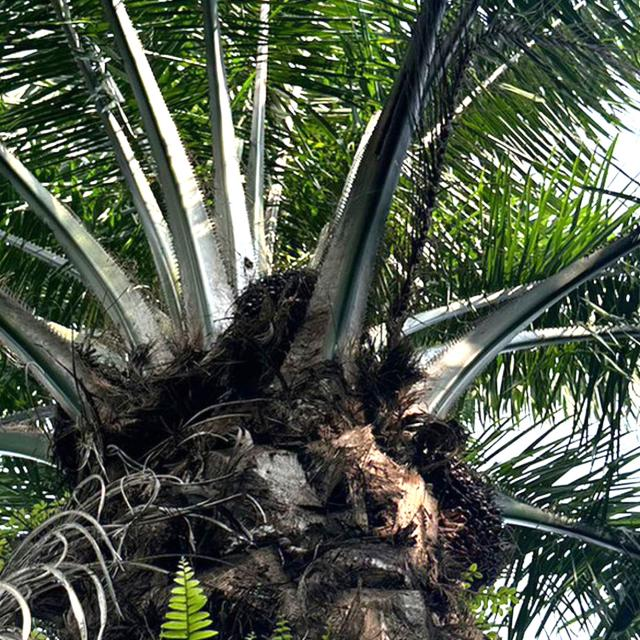unripe: (422, 446, 522, 590), (231, 266, 333, 363)
